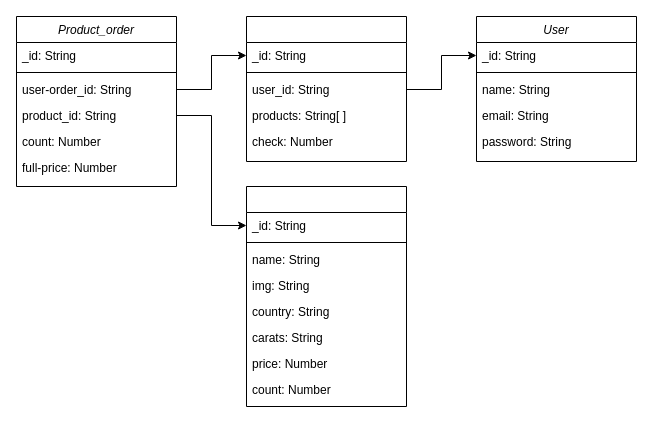
This 653x423 diagram has some shape labels left out. The shapes that lost their labels are listed below. From the top down, each one's box as (x1, y1, x2, y2) in pixels, then its label:
(246, 16, 406, 162): User_order
(246, 186, 406, 406): Product
